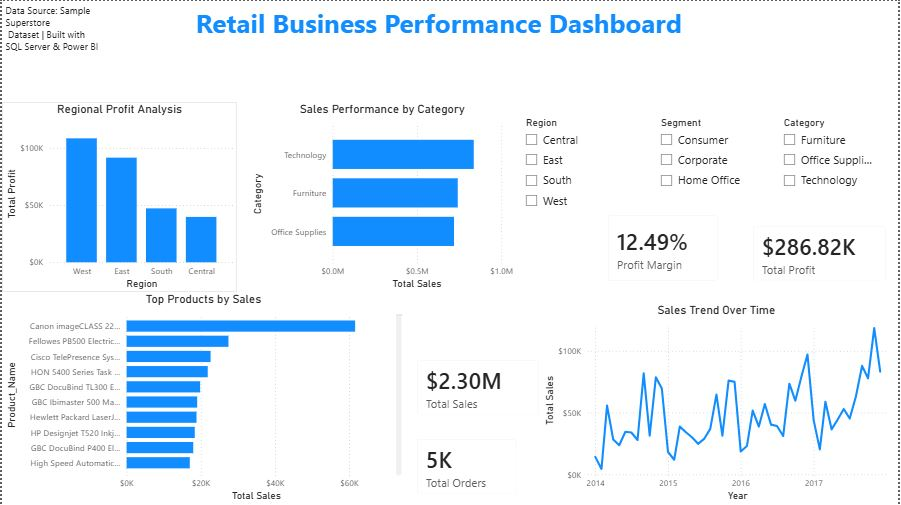

Layout of this report page (visuals, bound fields, positions):
{"tool":"powerbi","page":{"name":"Page 1","canvas":[1280,720],"ordinal":0},"visuals":[{"type":"cardVisual","fields":{"Data":["retail_sales_clean.Total Sales"]},"box":[576,496,208,112],"z":0},{"type":"cardVisual","fields":{"Data":["retail_sales_clean.Total Profit"]},"box":[1056,304,224,112],"z":1},{"type":"cardVisual","fields":{"Data":["retail_sales_clean.Total Orders"]},"box":[576,608,176,112],"z":2},{"type":"cardVisual","fields":{"Data":["retail_sales_clean.Profit Margin"]},"box":[848,288,192,128],"z":3},{"type":"clusteredBarChart","title":"Sales Performance by Category","fields":{"Category":["retail_sales_clean.Category"],"Y":["retail_sales_clean.Total Sales"]},"box":[352,144,384,272],"z":4},{"type":"clusteredColumnChart","title":"Regional Profit Analysis","fields":{"Category":["retail_sales_clean.Region"],"Y":["retail_sales_clean.Total Profit"]},"box":[0,144,336,272],"z":5},{"type":"lineChart","title":"Sales Trend Over Time","fields":{"Y":["retail_sales_clean.Total Sales"],"Category":["retail_sales_clean.Order_Date.Variation.Date Hierarchy.Year","retail_sales_clean.Order_Date.Variation.Date Hierarchy.Month"]},"box":[768,432,504,288],"z":6},{"type":"barChart","title":"Top Products by Sales","fields":{"Category":["retail_sales_clean.Product_Name"],"Y":["retail_sales_clean.Total Sales"]},"box":[0,416,576,304],"z":7},{"type":"slicer","fields":{"Values":["retail_sales_clean.Region"]},"box":[736,160,144,144],"z":8},{"type":"slicer","fields":{"Values":["retail_sales_clean.Segment"]},"box":[928,160,144,144],"z":9},{"type":"slicer","fields":{"Values":["retail_sales_clean.Category"]},"box":[1104,160,144,144],"z":10},{"type":"textbox","box":[0,0,1248,64],"z":11},{"type":"textbox","box":[0,0,192,80],"z":12}]}

Visuals, with their boxes in screenshot pixels (x1, y1, x2, y2), scaled from the page's 1280x720 canvas onto the 901x505 screenshot:
cardVisual - retail_sales_clean.Total Sales: bbox=(405, 348, 552, 426)
cardVisual - retail_sales_clean.Total Profit: bbox=(743, 213, 900, 292)
cardVisual - retail_sales_clean.Total Orders: bbox=(405, 426, 529, 504)
cardVisual - retail_sales_clean.Profit Margin: bbox=(597, 202, 732, 292)
"Sales Performance by Category" clusteredBarChart: bbox=(248, 101, 518, 292)
"Regional Profit Analysis" clusteredColumnChart: bbox=(0, 101, 237, 292)
"Sales Trend Over Time" lineChart: bbox=(541, 303, 895, 504)
"Top Products by Sales" barChart: bbox=(0, 292, 405, 504)
slicer - retail_sales_clean.Region: bbox=(518, 112, 619, 213)
slicer - retail_sales_clean.Segment: bbox=(653, 112, 755, 213)
slicer - retail_sales_clean.Category: bbox=(777, 112, 878, 213)
textbox: bbox=(0, 0, 878, 45)
textbox: bbox=(0, 0, 135, 56)
